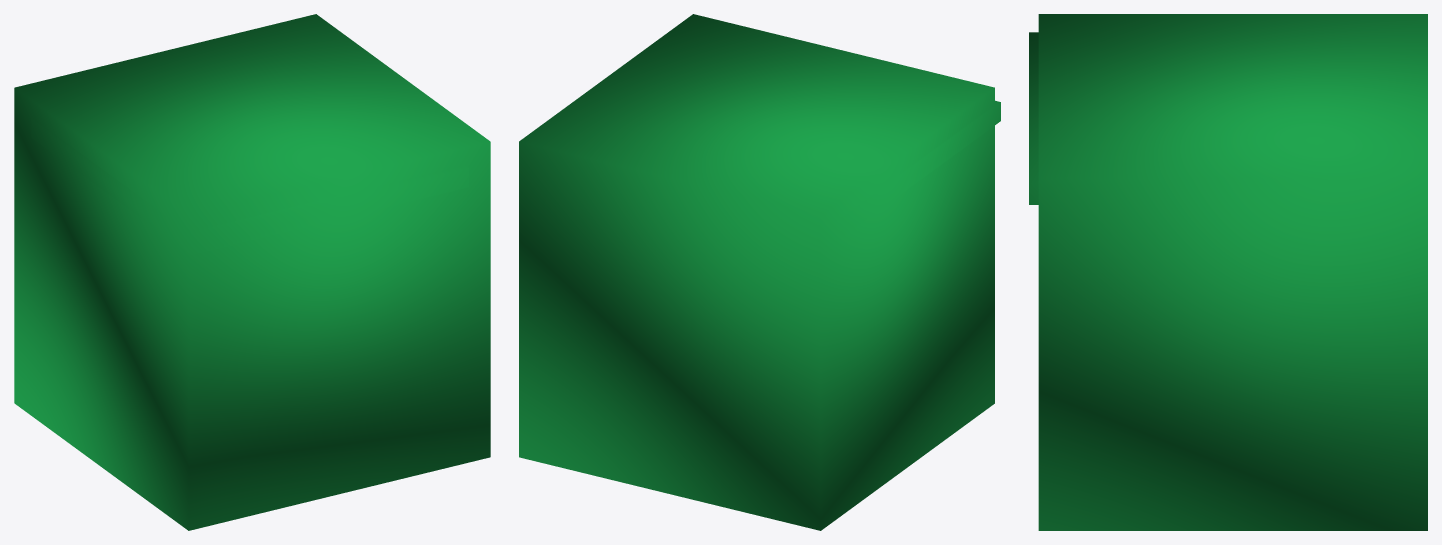
Rendered from ps2_jrpg_imperial_dungeon_iron_gate.obj.
The picture shows the model from 3 angles, left to right: view 1: azimuth 30°, elevation 25°; view 2: azimuth 150°, elevation 25°; view 3: azimuth 270°, elevation 25°; orthographic projection. The views are drawn at different scales.
Size of the model in its own units: 1.01 by 1 by 1.02.
